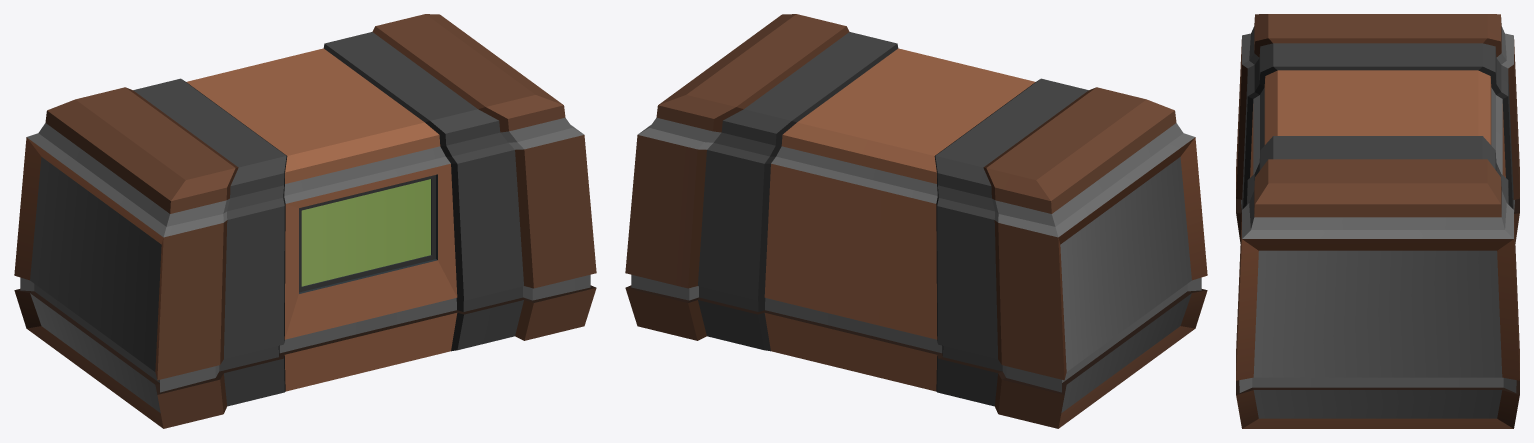
File: Future Med Crate Brown.fbx
3 views of the same model, side by side, from view 1: azimuth 30°, elevation 25°; view 2: azimuth 150°, elevation 25°; view 3: azimuth 270°, elevation 25° (orthographic).
Parts seen in each view (by area): view 1: Future Med Crate Brown; view 2: Future Med Crate Brown; view 3: Future Med Crate Brown.
Part boxes in pixels (x1,y1,x2,y2): Future Med Crate Brown: (14, 14, 596, 428); Future Med Crate Brown: (625, 14, 1207, 428); Future Med Crate Brown: (1236, 14, 1519, 428).
Bounding box in the file's own units: 265 × 298 × 529.
1 material, 1 textured.
